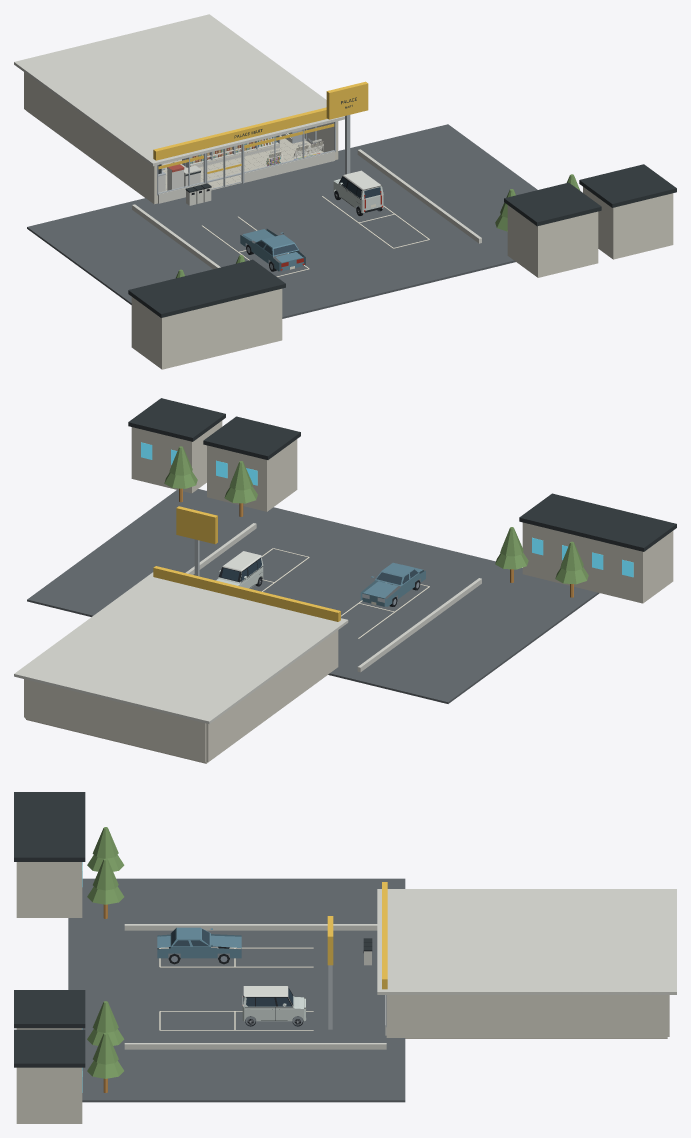
Rendered from store.glb.
3 renders of one model, top to bottom at view 1: azimuth 30°, elevation 25°; view 2: azimuth 150°, elevation 25°; view 3: azimuth 270°, elevation 25°, orthographic. The views are drawn at different scales.
Visible parts, largest first — view 1: Store_舗装, Store_白い塗装, Store_壁, Store_チャコール, Store_黄色帯, Store_床, Store_銀色, Store_既存車_(3, 0), Store_既存車_(0, 0), Store_白紙; view 2: Store_舗装, Store_白い塗装, Store_壁, Store_チャコール, Store_黄色帯, Store_葉, Store_既存車_(3, 0), Store_画面; view 3: Store_舗装, Store_白い塗装, Store_壁, Store_チャコール, Store_葉, Store_既存車_(3, 0), Store_既存車_(0, 0), Store_黄色帯, Store_白紙, Store_既存車_(2, 1), Store_既存車_(5, 4).
Part boxes in pixels (left/top/right/bottom): Store_舗装: left=27, top=124, right=537, bottom=318; Store_白い塗装: left=14, top=14, right=481, bottom=268; Store_壁: left=24, top=72, right=673, bottom=369; Store_チャコール: left=128, top=97, right=676, bottom=317; Store_黄色帯: left=153, top=81, right=368, bottom=169; Store_床: left=27, top=111, right=323, bottom=197; Store_銀色: left=157, top=115, right=350, bottom=195; Store_既存車_(3, 0): left=240, top=229, right=305, bottom=271; Store_既存車_(0, 0): left=333, top=176, right=383, bottom=213; Store_白紙: left=190, top=133, right=429, bottom=276; Store_舗装: left=27, top=489, right=599, bottom=703; Store_白い塗装: left=14, top=523, right=481, bottom=724; Store_壁: left=24, top=420, right=673, bottom=762; Store_チャコール: left=128, top=398, right=676, bottom=551; Store_黄色帯: left=153, top=506, right=340, bottom=621; Store_葉: left=164, top=446, right=588, bottom=584; Store_既存車_(3, 0): left=360, top=562, right=425, bottom=606; Store_画面: left=141, top=442, right=633, bottom=577; Store_舗装: left=68, top=878, right=405, bottom=1102; Store_白い塗装: left=124, top=889, right=676, bottom=1049; Store_壁: left=16, top=862, right=669, bottom=1123; Store_チャコール: left=14, top=792, right=372, bottom=1067; Store_葉: left=87, top=827, right=124, bottom=1078; Store_既存車_(3, 0): left=157, top=927, right=241, bottom=958; Store_既存車_(0, 0): left=242, top=995, right=306, bottom=1021; Store_黄色帯: left=327, top=882, right=387, bottom=989; Store_白紙: left=159, top=947, right=313, bottom=1030; Store_既存車_(2, 1): left=168, top=946, right=303, bottom=1026; Store_既存車_(5, 4): left=243, top=986, right=288, bottom=996.
Size of the model in its own units: 34.3 by 6.18 by 35.4.
67 materials, 10 textured.
